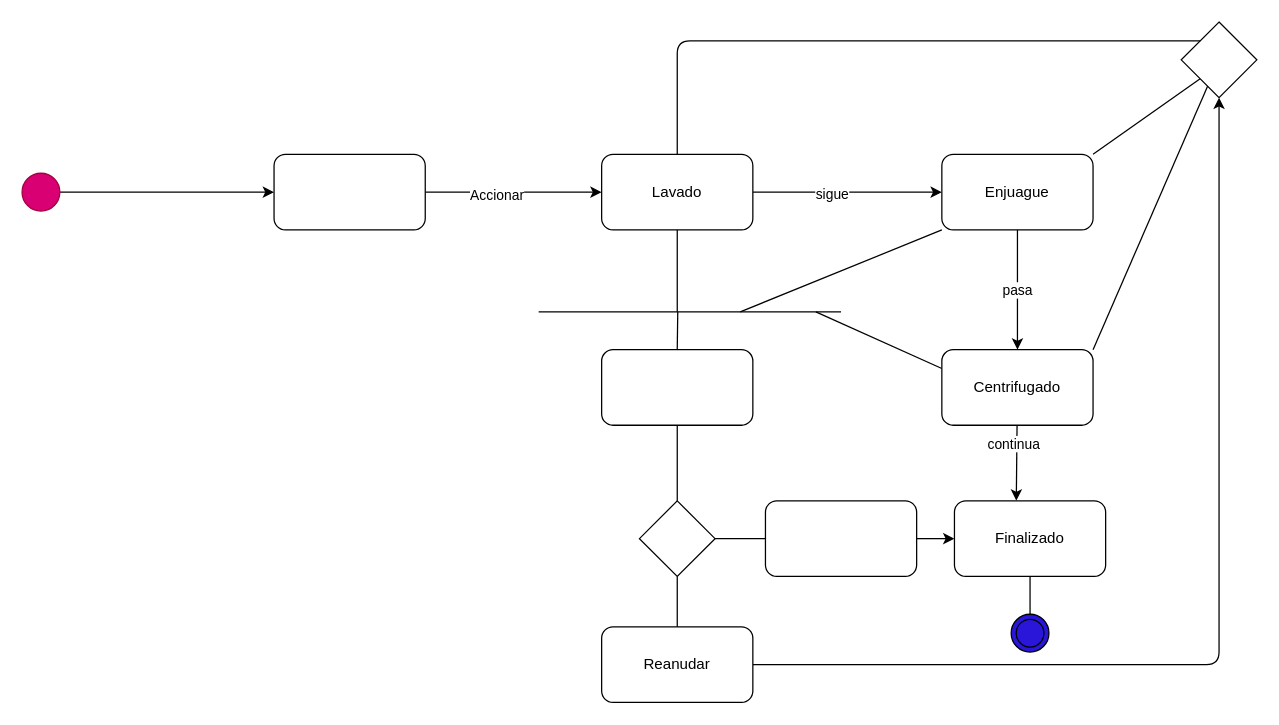
This 1279x725 diagram has some shape labels left out. The shapes that lost their labels are listed below. From the top down, each one's centre as x and y in pixels, then its label:
(x=349, y=191): Apagada
(x=676, y=386): Pausado
(x=840, y=538): Cancelar
